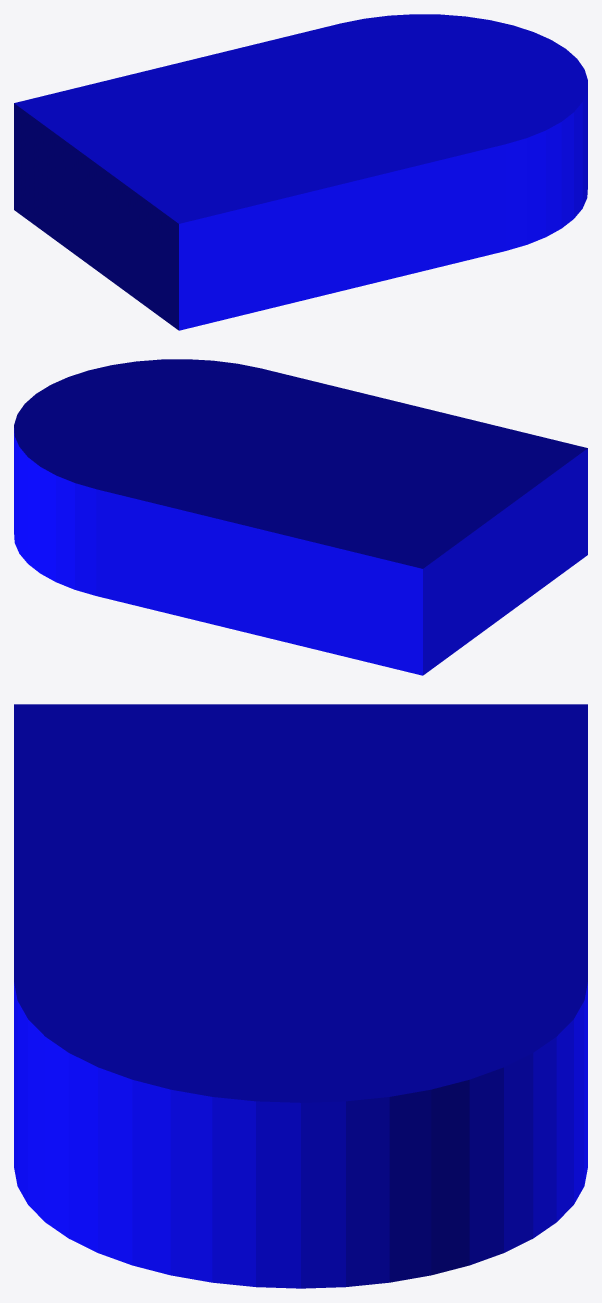
The model's file is hull.gltf.
3 renders of one model, top to bottom at view 1: azimuth 30°, elevation 25°; view 2: azimuth 150°, elevation 25°; view 3: azimuth 270°, elevation 25°, orthographic. The views are drawn at different scales.
Bounding box in the file's own units: 11.5 × 2.5 × 7.
